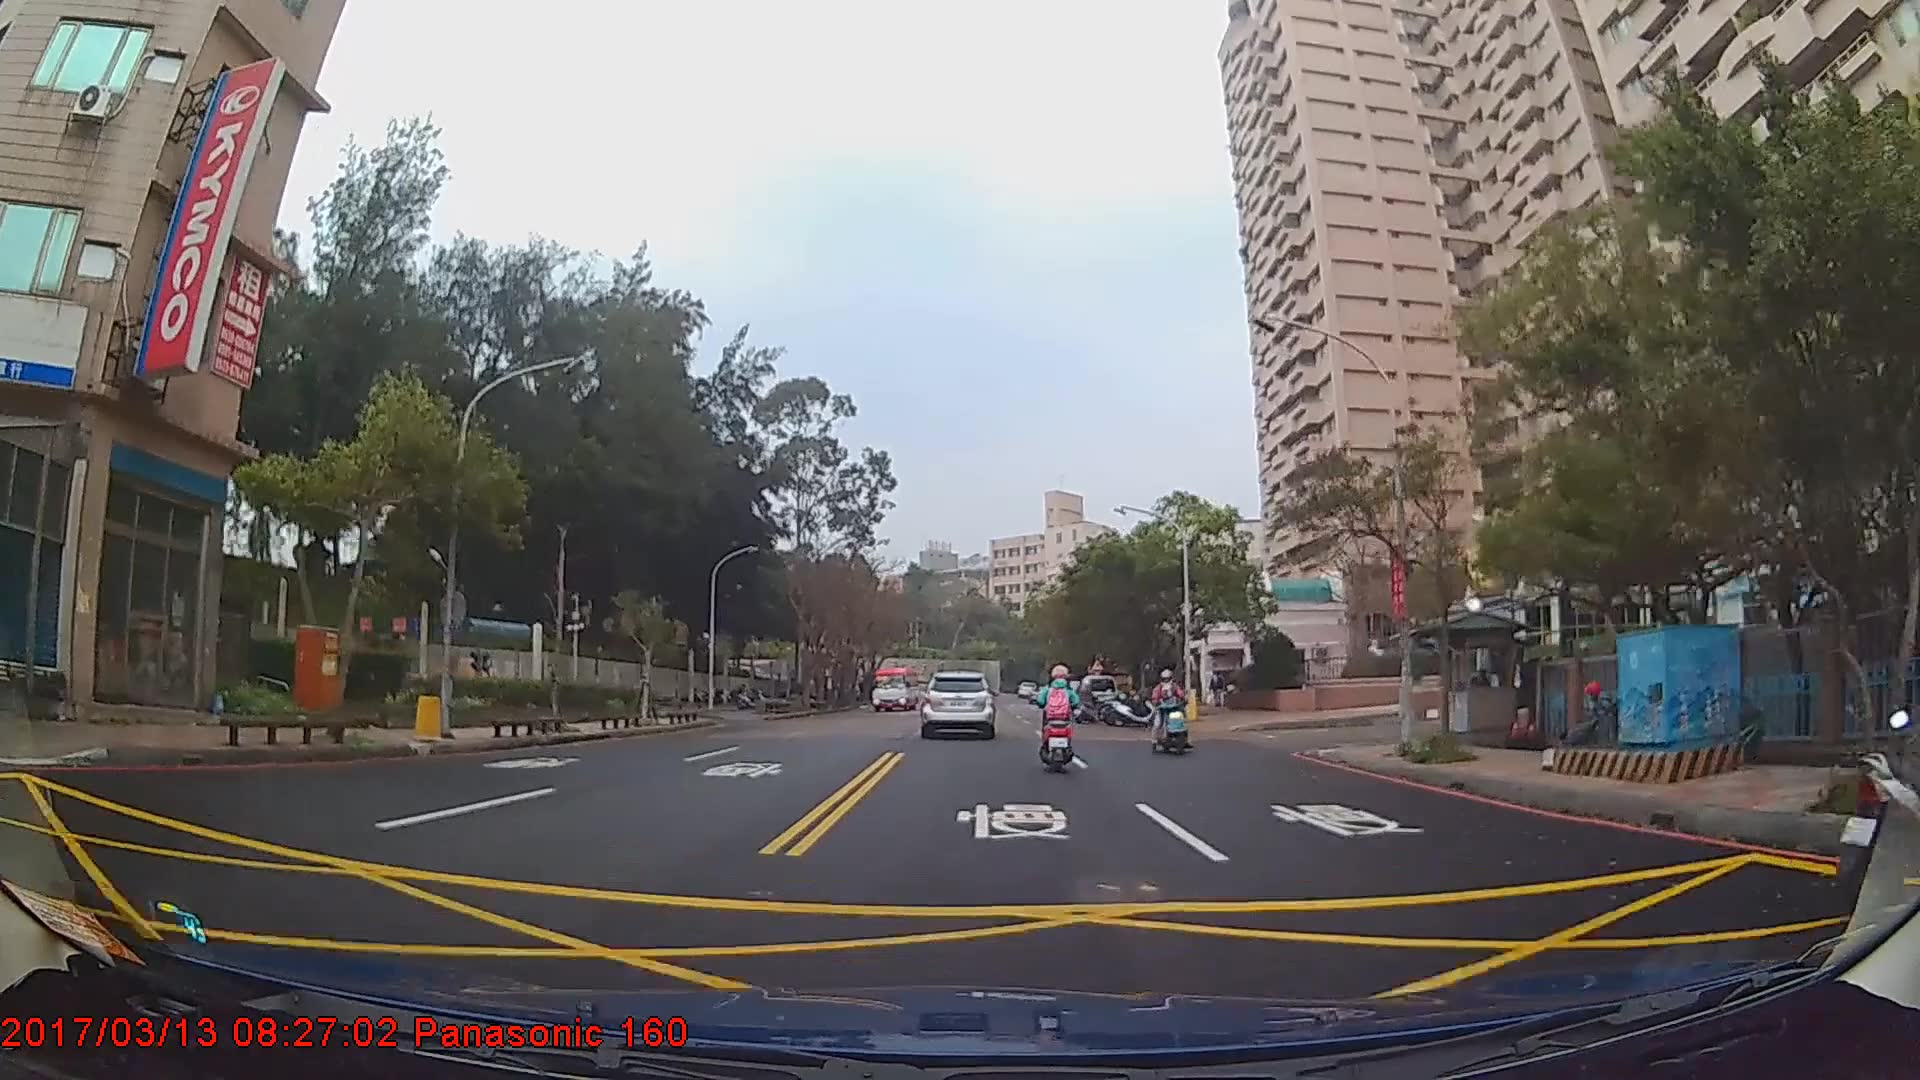rider: (1034, 659, 1080, 775), (1148, 666, 1190, 747), (1073, 677, 1105, 725)
vehicle: (918, 670, 994, 736), (869, 663, 921, 709), (1072, 672, 1119, 718)
